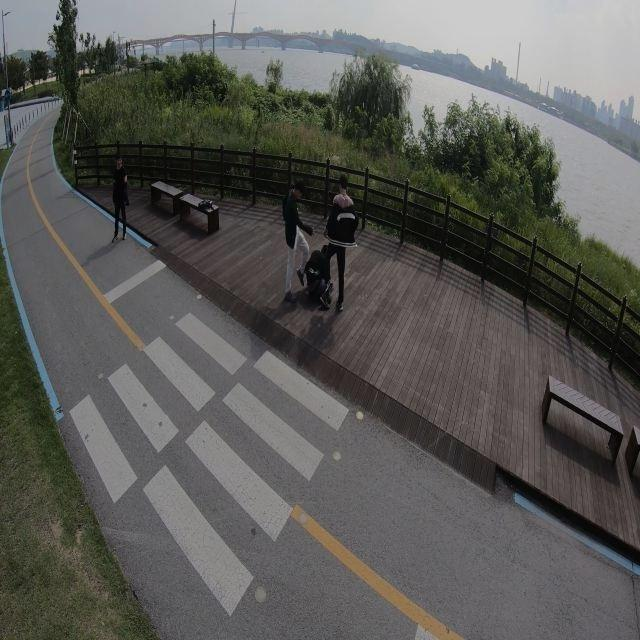fight: (281, 182, 359, 314)
non-fight: (110, 154, 131, 243)
